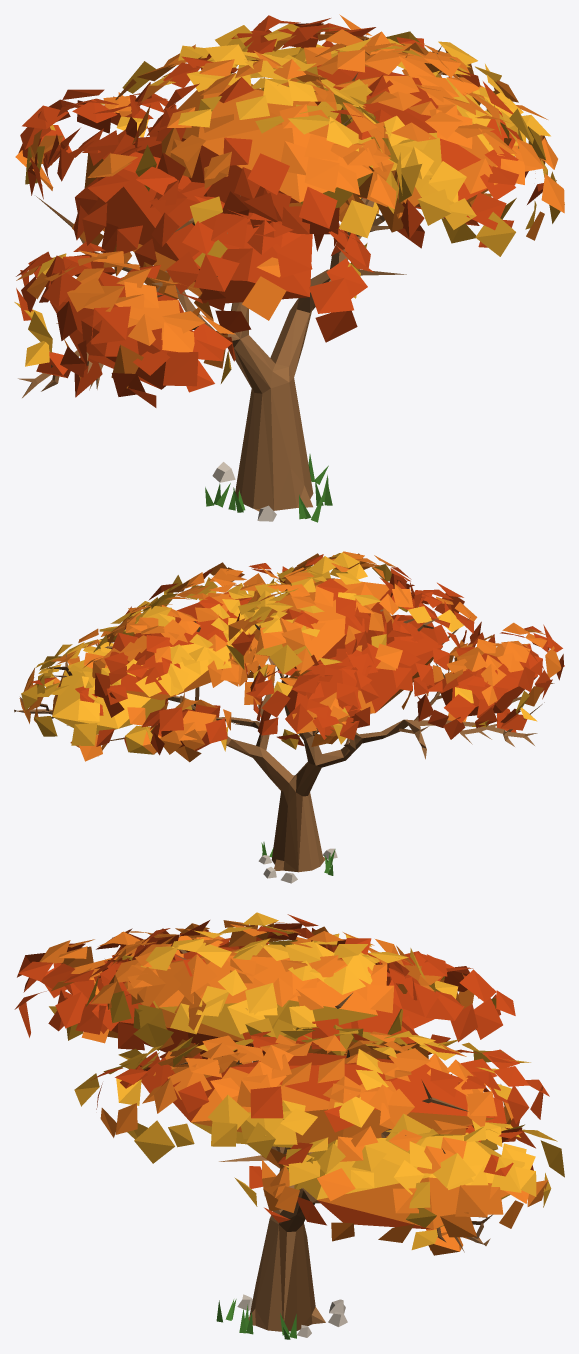
Rendered from acacia_autumn.glb.
3 renders of one model, top to bottom at view 1: azimuth 30°, elevation 25°; view 2: azimuth 150°, elevation 25°; view 3: azimuth 270°, elevation 25°, orthographic. The views are drawn at different scales.
Visible parts, largest first — view 1: acacia_autumn; view 2: acacia_autumn; view 3: acacia_autumn.
Boxes of the visible parts, x1=… form: acacia_autumn: x1=14, y1=14, x2=564, y2=522; acacia_autumn: x1=14, y1=551, x2=564, y2=883; acacia_autumn: x1=14, y1=912, x2=564, y2=1339.
Bounding box in the file's own units: 10.96 × 7.22 × 9.58.
